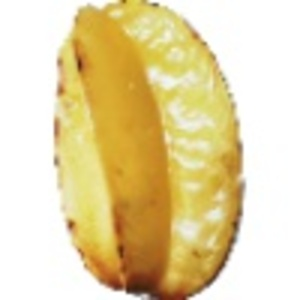carambola: (53, 1, 246, 300)
